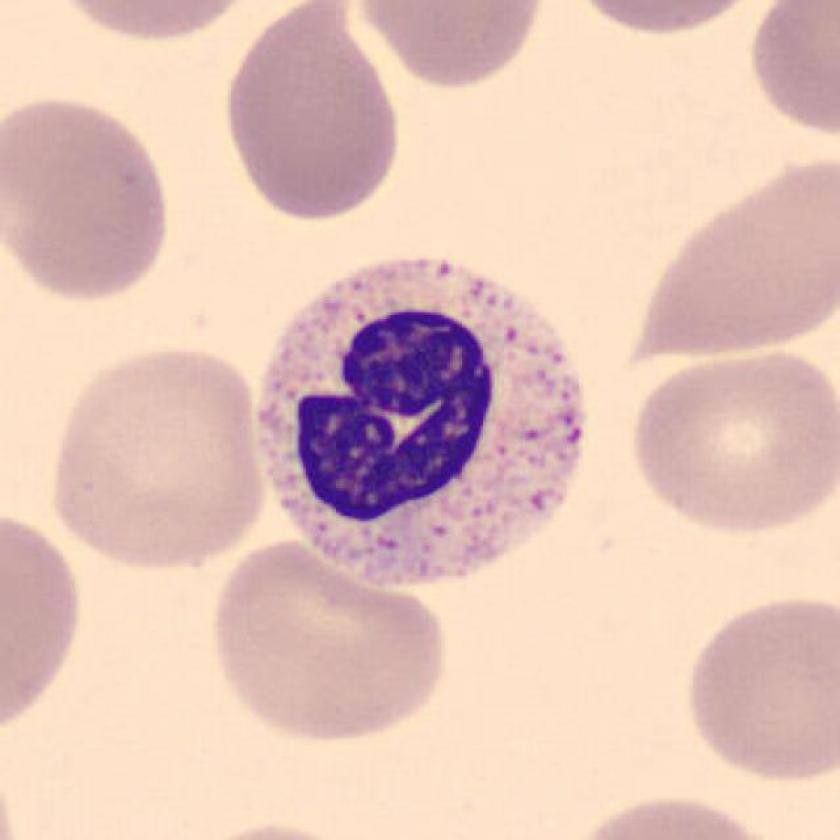neutrophil: (256, 256, 585, 583)
